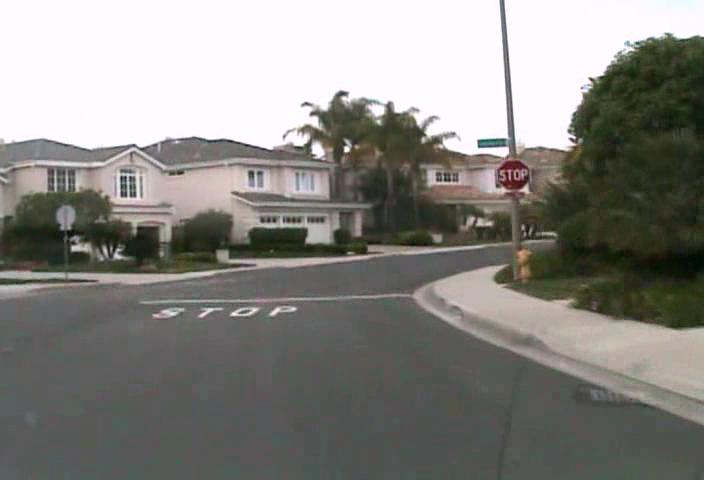stop: (494, 158, 531, 191)
